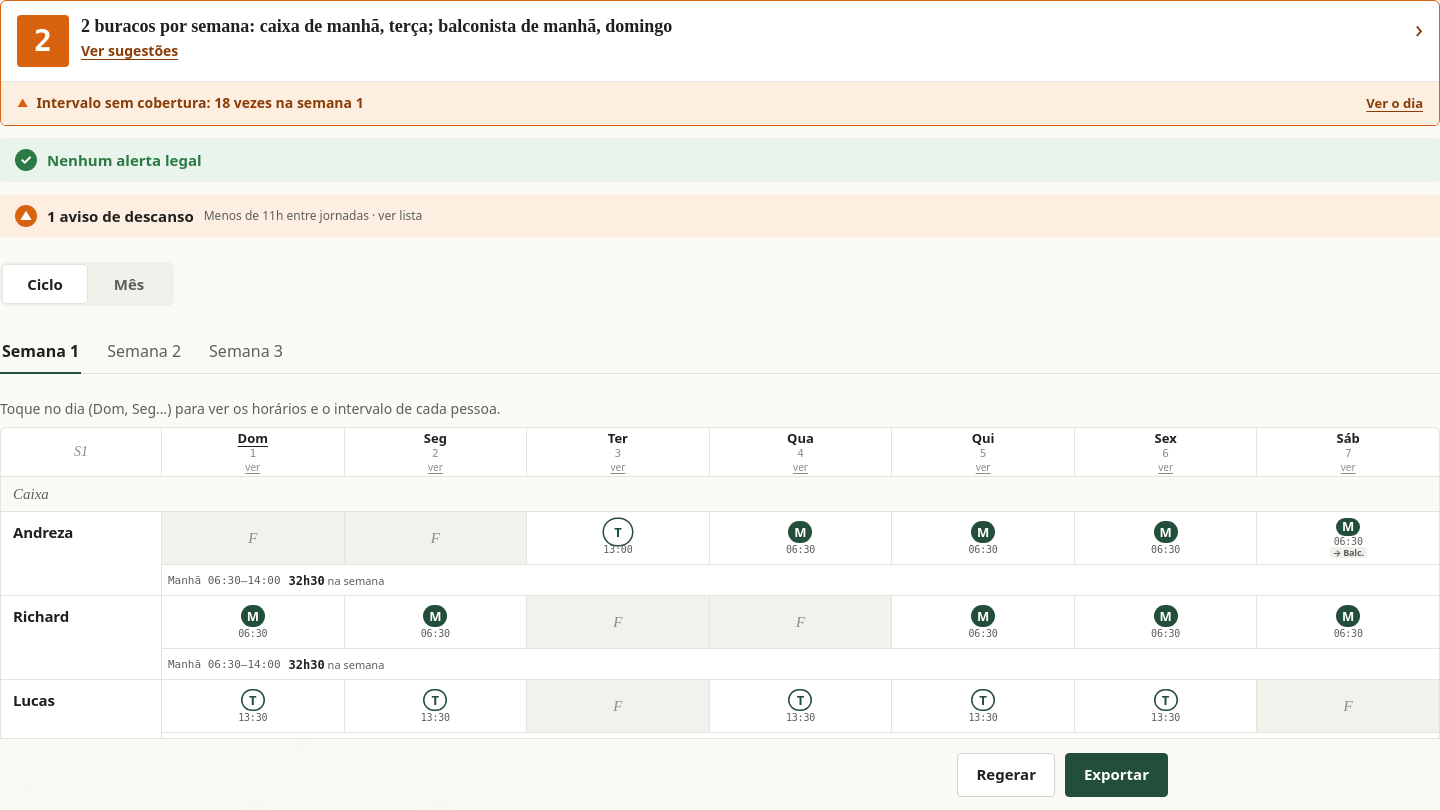
Test: ScheduleView › aviso de 11h mostra ajustes e aplicar um deles tira o aviso
Click the button that starts with "1 aviso de descanso" at (120, 216), box [0, 194, 1439, 238]
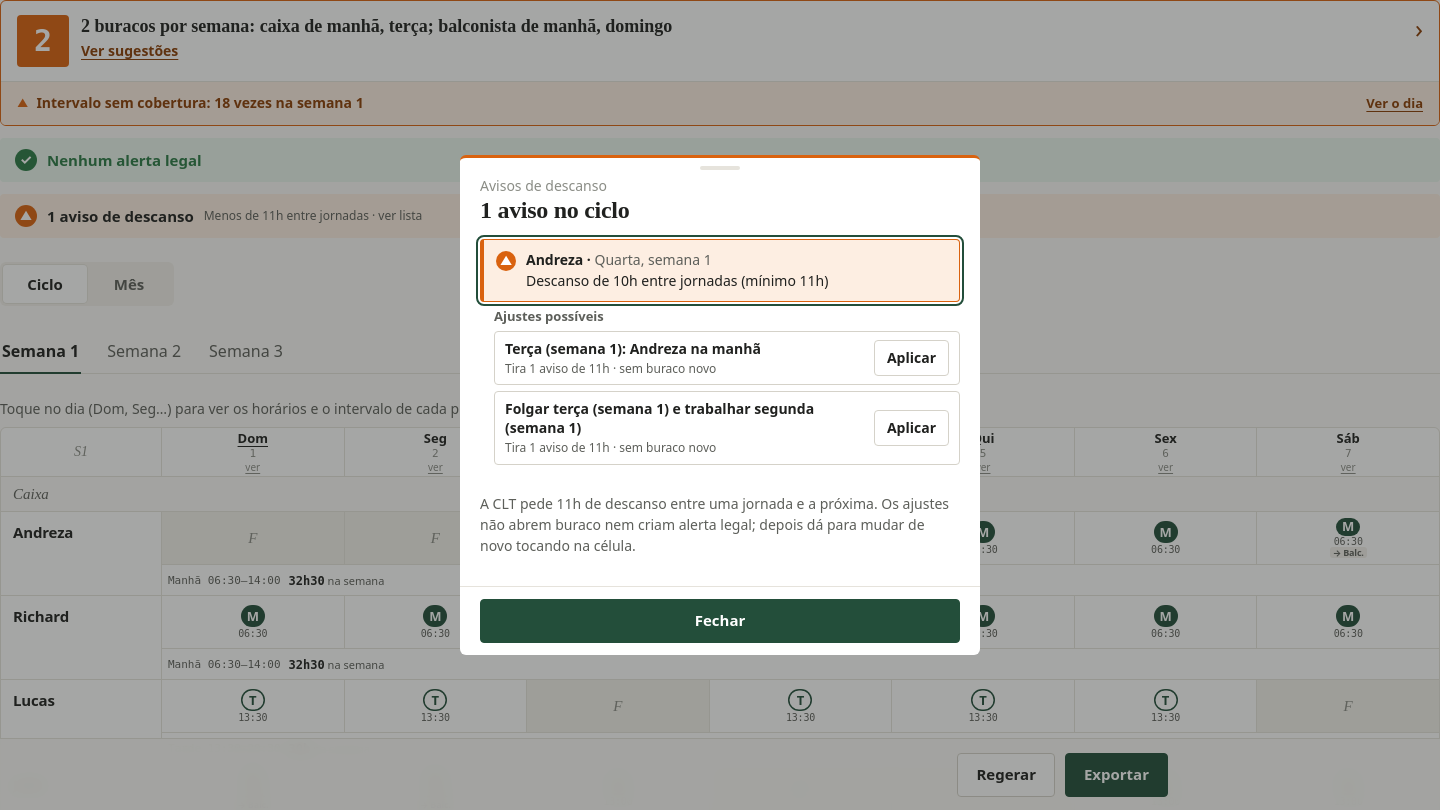
Click the button with aria-label "Aplicar: " at (911, 358), box [874, 340, 949, 376]
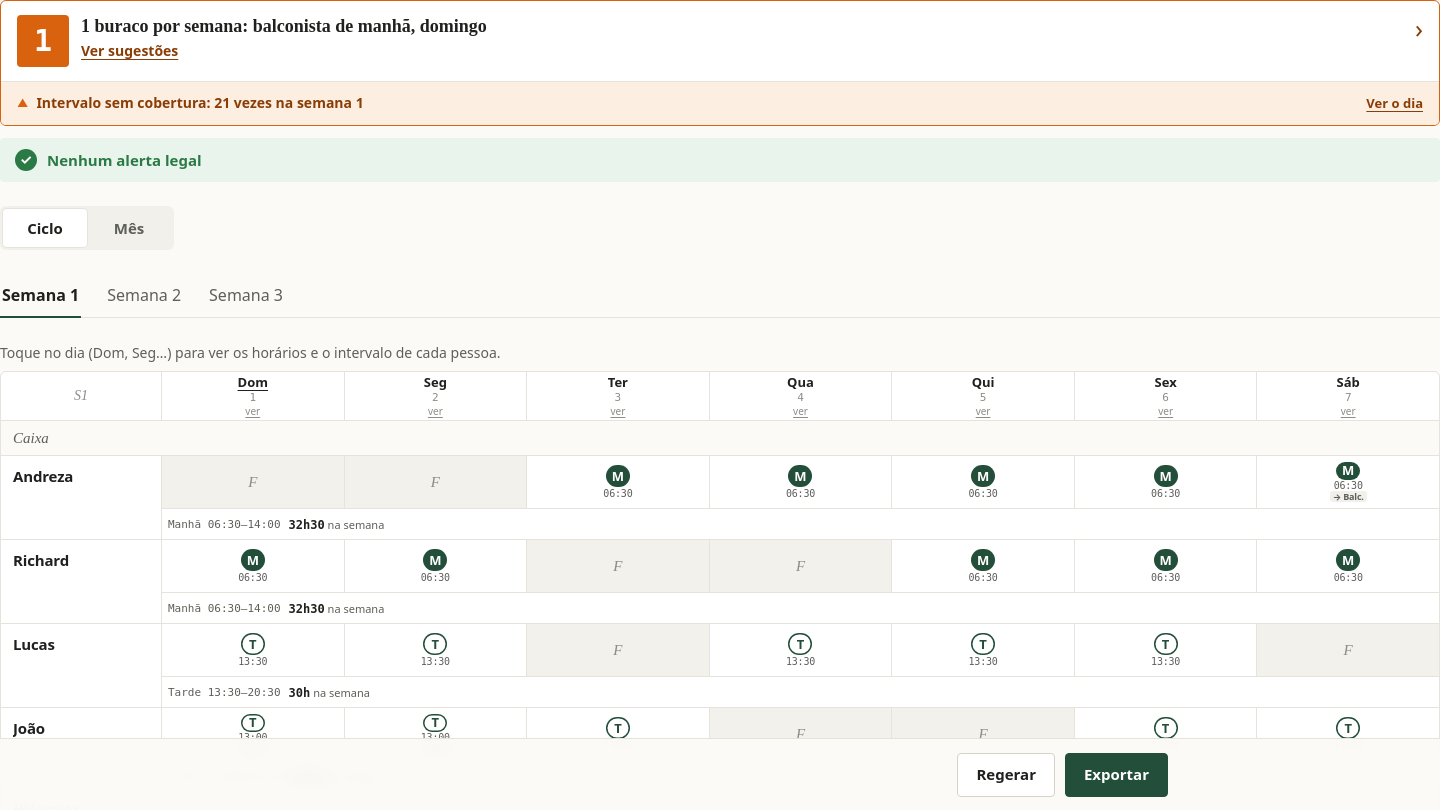
Expected: the button "1 aviso de descanso" is gone
